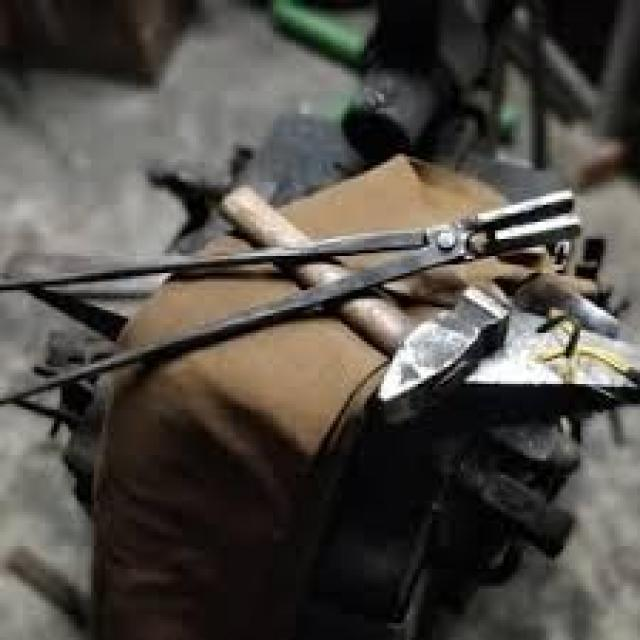hammer: (207, 172, 524, 442)
